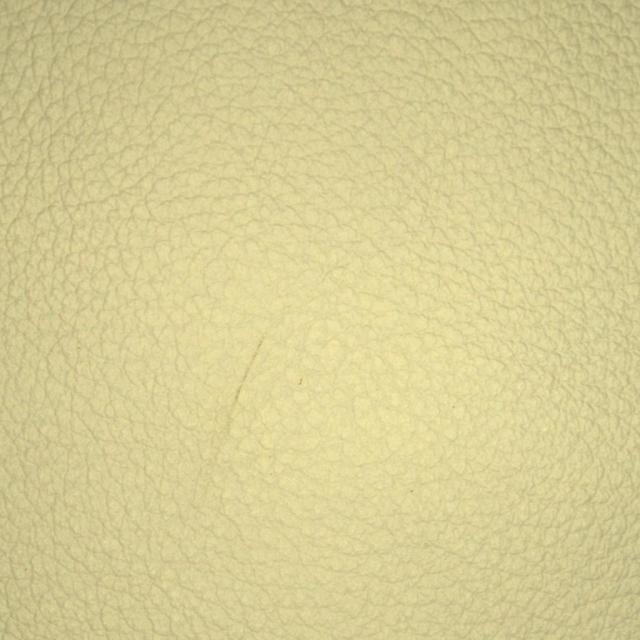Scratch: (160, 288, 314, 486)
